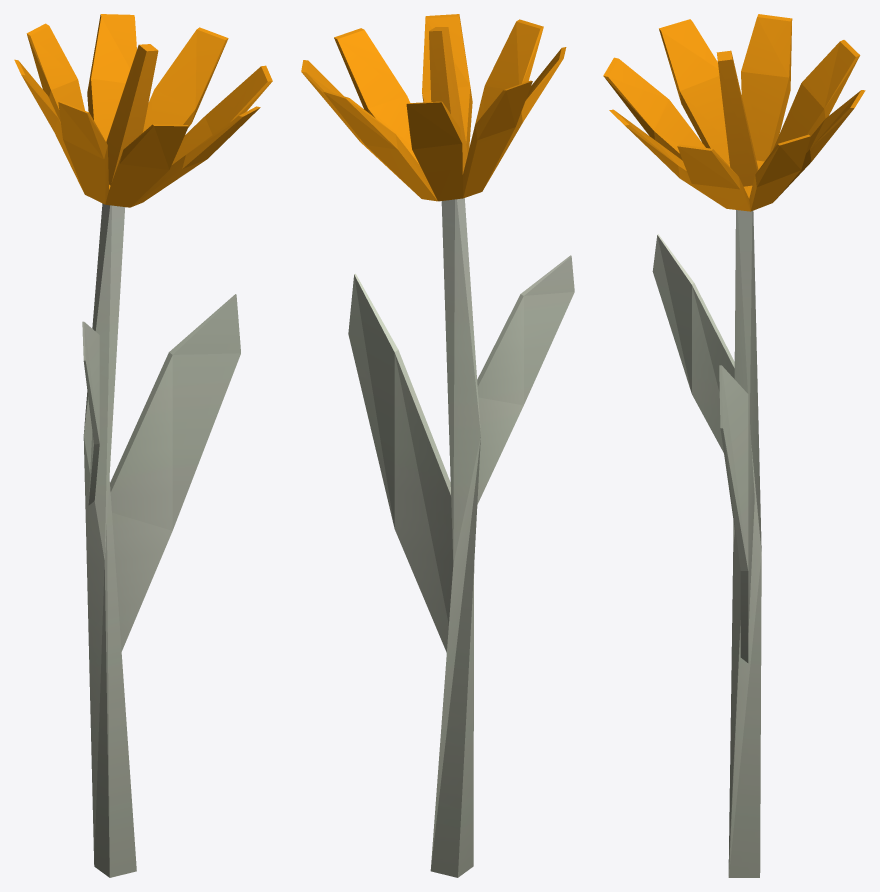
File: flower_lily.glb
The picture shows the model from 3 angles, left to right: view 1: azimuth 30°, elevation 25°; view 2: azimuth 150°, elevation 25°; view 3: azimuth 270°, elevation 25°; orthographic projection.
Parts seen in each view (by area): view 1: flower_lily; view 2: flower_lily; view 3: flower_lily.
Boxes of the visible parts, left/top/right/bottom form: flower_lily: left=14, top=14, right=272, bottom=877; flower_lily: left=301, top=14, right=574, bottom=877; flower_lily: left=603, top=14, right=865, bottom=877.
Bounding box in the file's own units: 0.1546 × 0.55 × 0.1579.
1 material, 1 textured.
